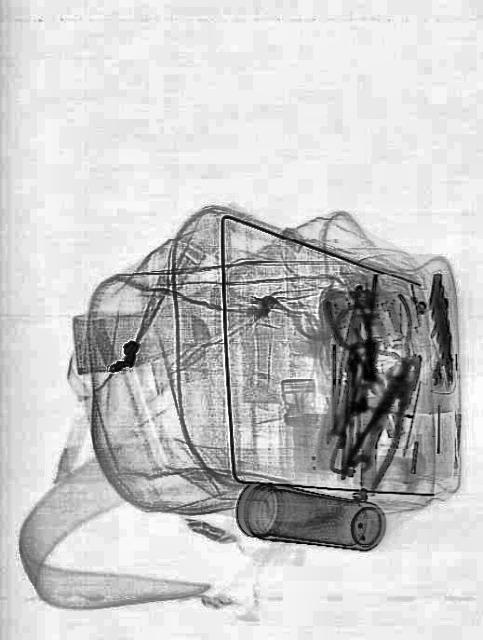Pliers: (337, 344, 435, 498), (352, 291, 434, 391)
